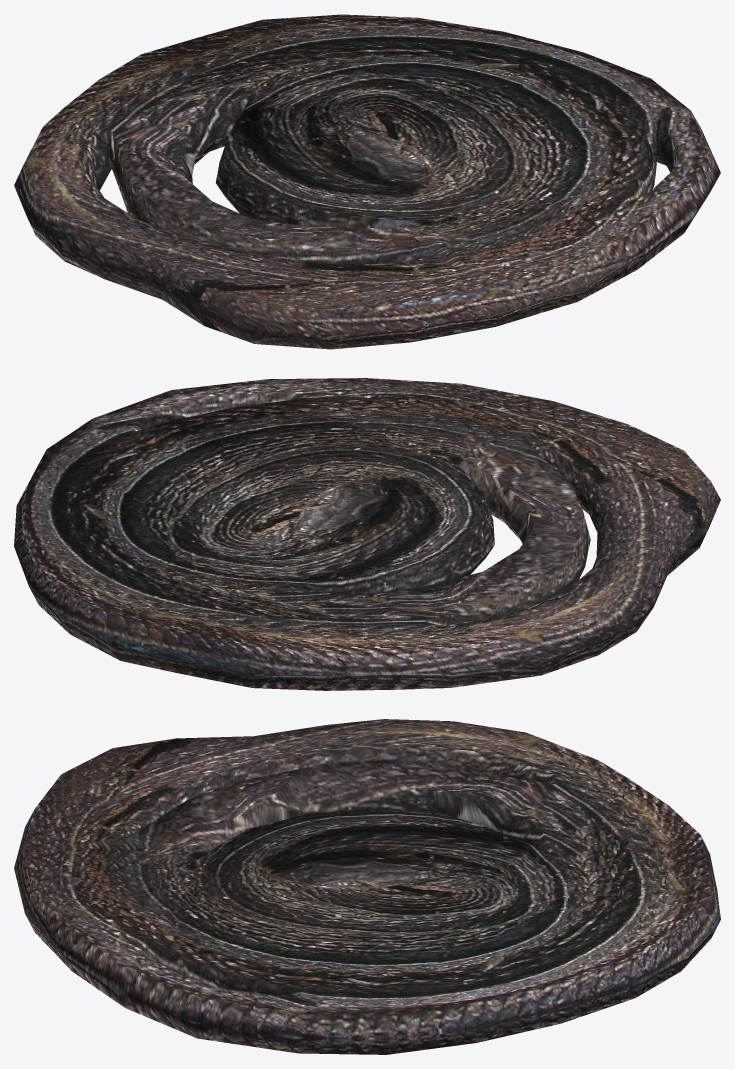
The model's file is wushaoshe.FBX.
3 views of the same model, one above another, from view 1: azimuth 30°, elevation 25°; view 2: azimuth 150°, elevation 25°; view 3: azimuth 270°, elevation 25° (orthographic). The views are drawn at different scales.
Parts seen in each view (by area): view 1: Line001; view 2: Line001; view 3: Line001.
Part boxes in pixels (x1,y1,x2,y2): Line001: [14, 14, 720, 349]; Line001: [14, 378, 720, 690]; Line001: [14, 719, 720, 1054].
Bounding box in the file's own units: 48.51 × 3 × 47.65.
Materials: 1 (1 with a texture image).
